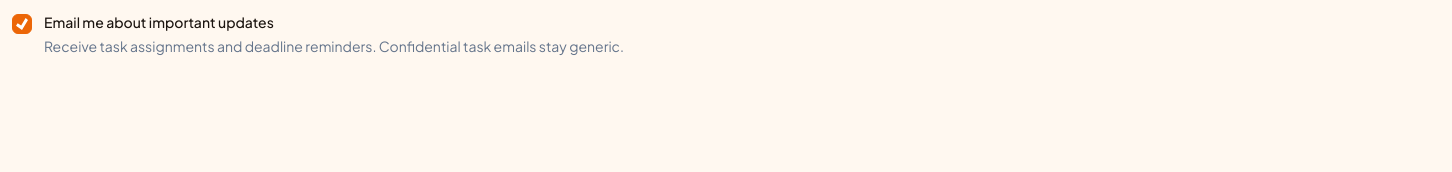
Test: ImportantEmailControl › settles success and restores the prior value after failure
Click the checkbox labelled "Email me about important updates" at (22, 24), box [12,14,32,34]
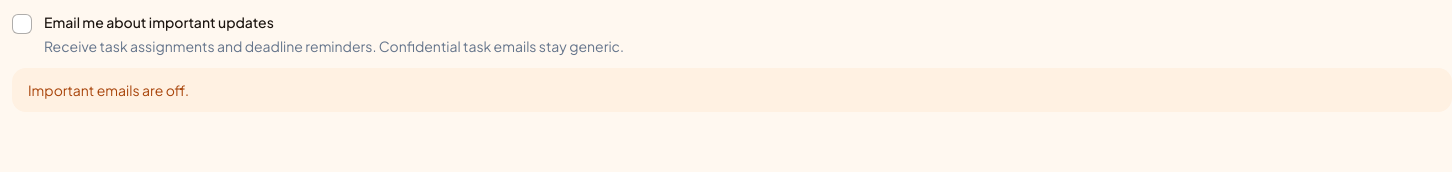
Now the checkbox labelled "Email me about important updates" is not checked
Now the text "Important emails are off." is shown, box [12,68,1451,112]
Click the checkbox labelled "Email me about important updates" at (22, 24), box [12,14,32,34]
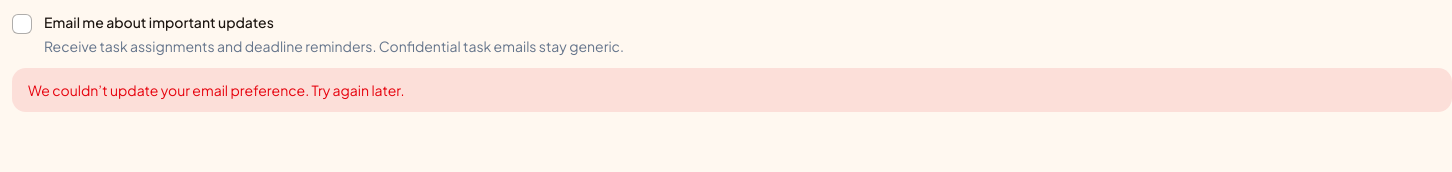
Now the checkbox labelled "Email me about important updates" is not checked, box [12,14,32,34]
Now the text "We couldn’t update your email preference. Try again later." is shown, box [12,68,1451,112]
